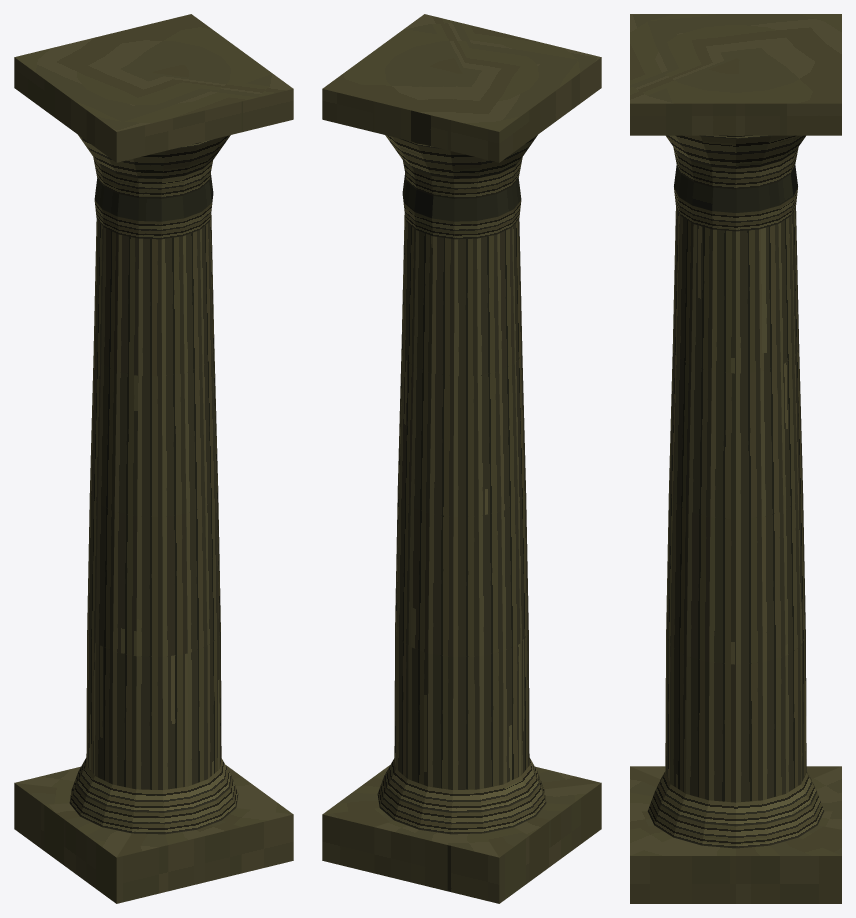
The model's file is marble_column.glb.
The picture shows the model from 3 angles, left to right: view 1: azimuth 30°, elevation 25°; view 2: azimuth 150°, elevation 25°; view 3: azimuth 270°, elevation 25°; orthographic projection. The views are drawn at different scales.
Visible parts, largest first — view 1: MarbleColumn; view 2: MarbleColumn; view 3: MarbleColumn.
Part boxes in pixels (x1,y1,x2,y2): MarbleColumn: (14, 14, 293, 903); MarbleColumn: (322, 14, 601, 903); MarbleColumn: (630, 14, 841, 903).
Size of what is drawn, in the model's own units: 1.2 by 5 by 1.2.
Materials: 1 (1 with a texture image).
